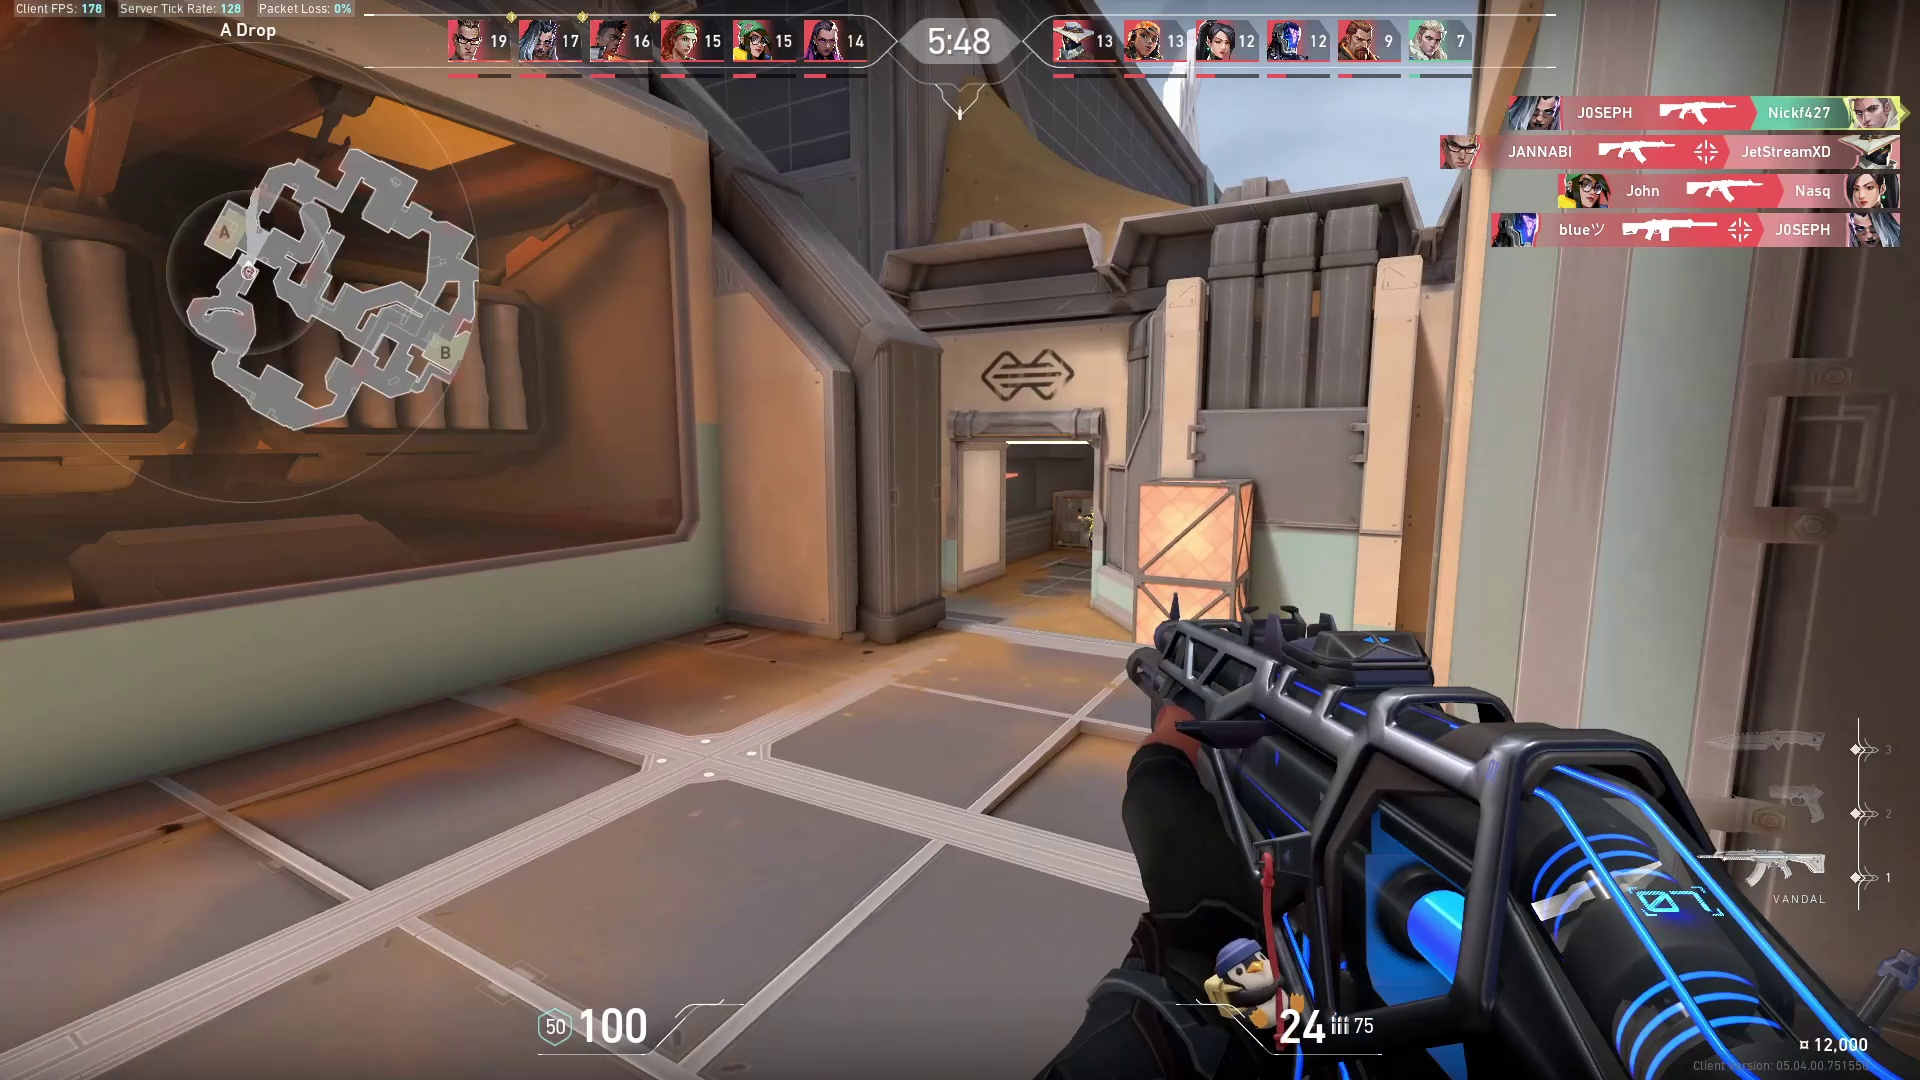enemy_body: (1080, 514, 1093, 555)
enemy_head: (1088, 505, 1094, 515)
